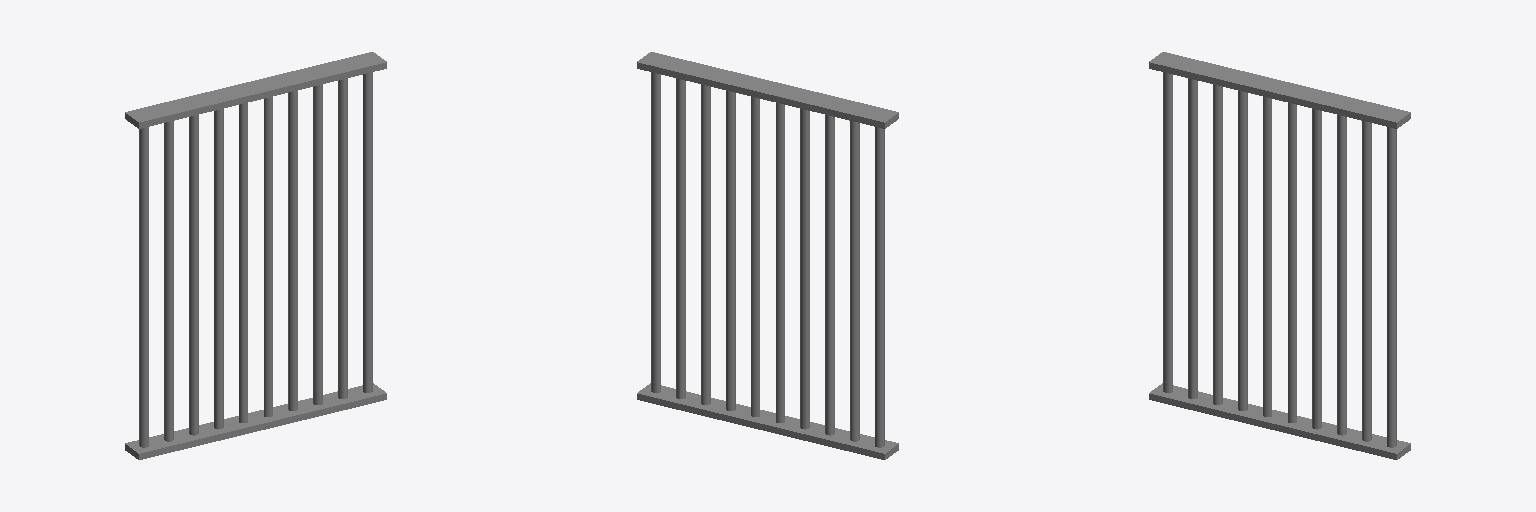
The model's file is WallCellDoorCol1.obj.
3 views of the same model, side by side, from view 1: azimuth 30°, elevation 25°; view 2: azimuth 150°, elevation 25°; view 3: azimuth 330°, elevation 25° (orthographic).
Parts seen in each view (by area): view 1: Cube; view 2: Cube; view 3: Cube.
Boxes of the visible parts, x1=… form: Cube: x1=125, y1=52, x2=386, y2=459; Cube: x1=637, y1=52, x2=898, y2=459; Cube: x1=1149, y1=52, x2=1410, y2=459.
Bounding box in the file's own units: 5.4 × 7.02 × 0.54.